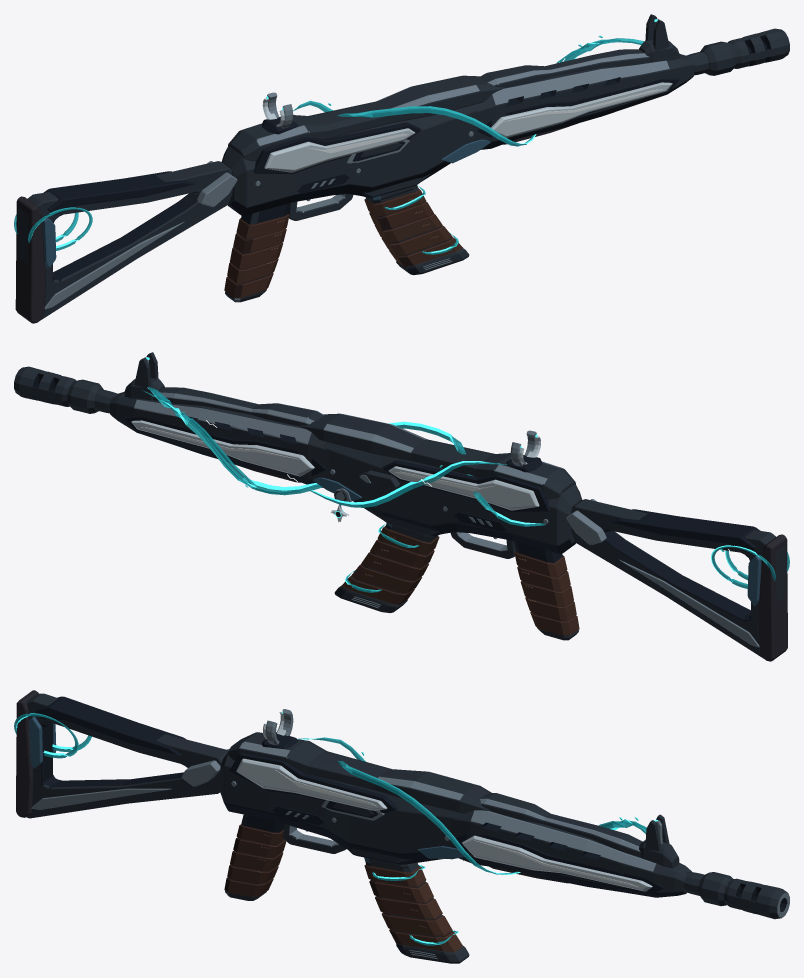
The model's file is Vandal_StormShadow_v02.glb.
3 views of the same model, one above another, from view 1: azimuth 30°, elevation 25°; view 2: azimuth 150°, elevation 25°; view 3: azimuth 330°, elevation 25° (orthographic).
Visible parts, largest first — view 1: Receiver_IndigoForging.001, Stock_ContinuousTriangularFrame.001, Shroud_OctagonalForging.001, UpperSpine_ProwBrow.001, Stock_ButtPad.001, Stock_CheekSaddle.001, Shroud_DorsalBlade.001, Fore_SilverPlate_Far.001, Rear_SilverPlate_Far.001, Muzzle_FourVentCage.001, Rear_DovetailBed_Far.001, Water_FarReceiver.001 (+19 smaller); view 2: Receiver_IndigoForging.001, Stock_ContinuousTriangularFrame.001, UpperSpine_ProwBrow.001, Shroud_OctagonalForging.001, Stock_ButtPad.001, Stock_CheekSaddle.001, Shroud_DorsalBlade.001, Fore_SilverPlate_Player.001, Rear_SilverPlate_Player.001, Muzzle_FourVentCage.001, Rear_DovetailBed_Player.001, Water_PlayerFore_Outer.001 (+21 smaller); view 3: Receiver_IndigoForging.001, Stock_ContinuousTriangularFrame.001, Shroud_OctagonalForging.001, UpperSpine_ProwBrow.001, Stock_CheekSaddle.001, Shroud_DorsalBlade.001, Fore_SilverPlate_Far.001, Rear_SilverPlate_Far.001, Muzzle_FourVentCage.001, Stock_ButtPad.001, Rear_DovetailBed_Far.001, Fore_DovetailBed_Far.001 (+20 smaller).
Part boxes in pixels (bbox=[...]): Receiver_IndigoForging.001: bbox=[221, 104, 480, 215]; Stock_ContinuousTriangularFrame.001: bbox=[18, 161, 232, 320]; Shroud_OctagonalForging.001: bbox=[474, 53, 694, 149]; UpperSpine_ProwBrow.001: bbox=[228, 75, 504, 161]; Stock_ButtPad.001: bbox=[15, 196, 45, 323]; Stock_CheekSaddle.001: bbox=[43, 171, 194, 214]; Shroud_DorsalBlade.001: bbox=[480, 49, 650, 87]; Fore_SilverPlate_Far.001: bbox=[491, 82, 672, 137]; Rear_SilverPlate_Far.001: bbox=[264, 128, 415, 172]; Muzzle_FourVentCage.001: bbox=[727, 28, 789, 68]; Rear_DovetailBed_Far.001: bbox=[253, 122, 421, 173]; Water_FarReceiver.001: bbox=[337, 106, 536, 146]; Receiver_IndigoForging.001: bbox=[323, 441, 581, 553]; Stock_ContinuousTriangularFrame.001: bbox=[571, 499, 785, 658]; UpperSpine_ProwBrow.001: bbox=[299, 413, 575, 499]; Shroud_OctagonalForging.001: bbox=[109, 391, 329, 487]; Stock_ButtPad.001: bbox=[758, 534, 787, 661]; Stock_CheekSaddle.001: bbox=[609, 509, 760, 552]; Shroud_DorsalBlade.001: bbox=[153, 387, 323, 425]; Fore_SilverPlate_Player.001: bbox=[131, 420, 314, 476]; Rear_SilverPlate_Player.001: bbox=[388, 466, 539, 510]; Muzzle_FourVentCage.001: bbox=[14, 366, 76, 406]; Rear_DovetailBed_Player.001: bbox=[382, 460, 550, 511]; Water_PlayerFore_Outer.001: bbox=[147, 387, 322, 495]; Receiver_IndigoForging.001: bbox=[220, 752, 458, 864]; Stock_ContinuousTriangularFrame.001: bbox=[26, 693, 228, 818]; Shroud_OctagonalForging.001: bbox=[451, 810, 691, 897]; UpperSpine_ProwBrow.001: bbox=[228, 732, 492, 813]; Stock_CheekSaddle.001: bbox=[35, 696, 185, 755]; Shroud_DorsalBlade.001: bbox=[480, 793, 642, 857]; Fore_SilverPlate_Far.001: bbox=[462, 835, 652, 891]; Rear_SilverPlate_Far.001: bbox=[236, 758, 387, 810]; Muzzle_FourVentCage.001: bbox=[724, 878, 789, 919]; Stock_ButtPad.001: bbox=[16, 690, 38, 817]; Rear_DovetailBed_Far.001: bbox=[229, 752, 397, 813]; Fore_DovetailBed_Far.001: bbox=[455, 834, 663, 894].
Size of the model in its own units: 3.9 by 1 by 0.3688.
